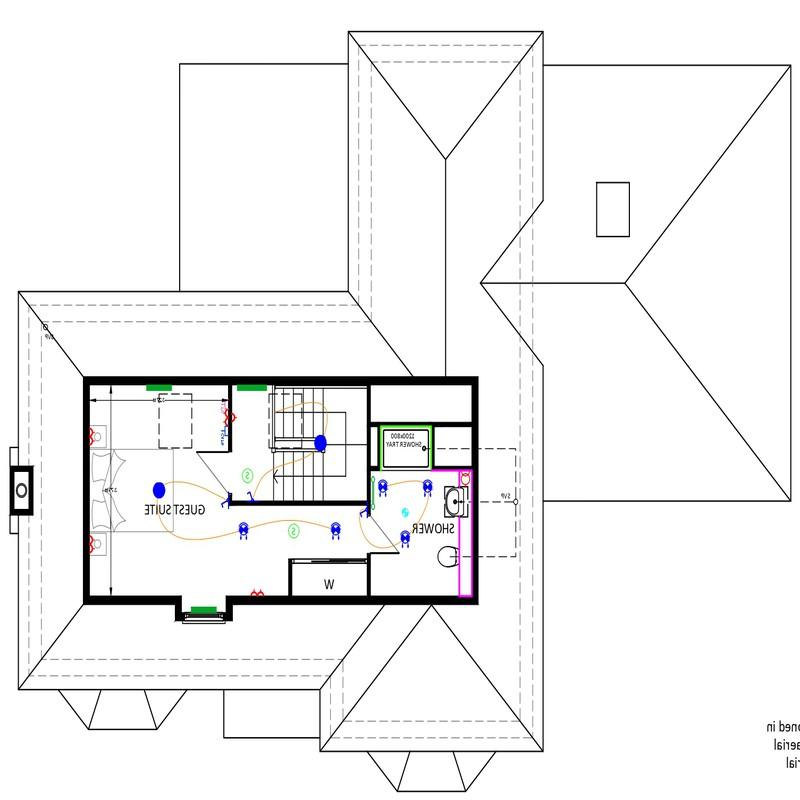Cat 6 Data Socket: (218, 423, 229, 442)
Ceiling Mounted Continuous Extract Fan With Boost Mode Activated By Light Switch: (399, 505, 412, 522)
Co-Ax TV Socket: (217, 400, 230, 409)
Double Socket: (88, 534, 103, 558), (88, 425, 98, 452), (243, 589, 270, 597), (219, 409, 229, 427)
Full Height Tiling: (379, 423, 433, 468)
Light Switch: (217, 492, 230, 511), (357, 504, 369, 521), (245, 490, 260, 502)
Low Energy Downlighter: (326, 520, 349, 543), (417, 476, 436, 500), (237, 520, 255, 544), (397, 528, 414, 552), (376, 476, 392, 499)
Low Energy Pendant Light: (311, 430, 335, 457), (146, 478, 169, 499)
Mains Wired Smoke Detector: (236, 463, 259, 484), (285, 520, 303, 540)
Radiator: (234, 383, 272, 394), (144, 383, 176, 395), (187, 605, 223, 614)
Shaver Socket: (458, 469, 472, 486)
Single Socket: (230, 410, 239, 426)
